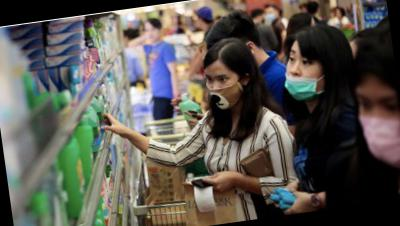mask_weared_incorrect: (279, 43, 327, 103)
with_mask: (352, 82, 400, 169), (203, 67, 247, 112)
without_mask: (144, 25, 163, 44)
